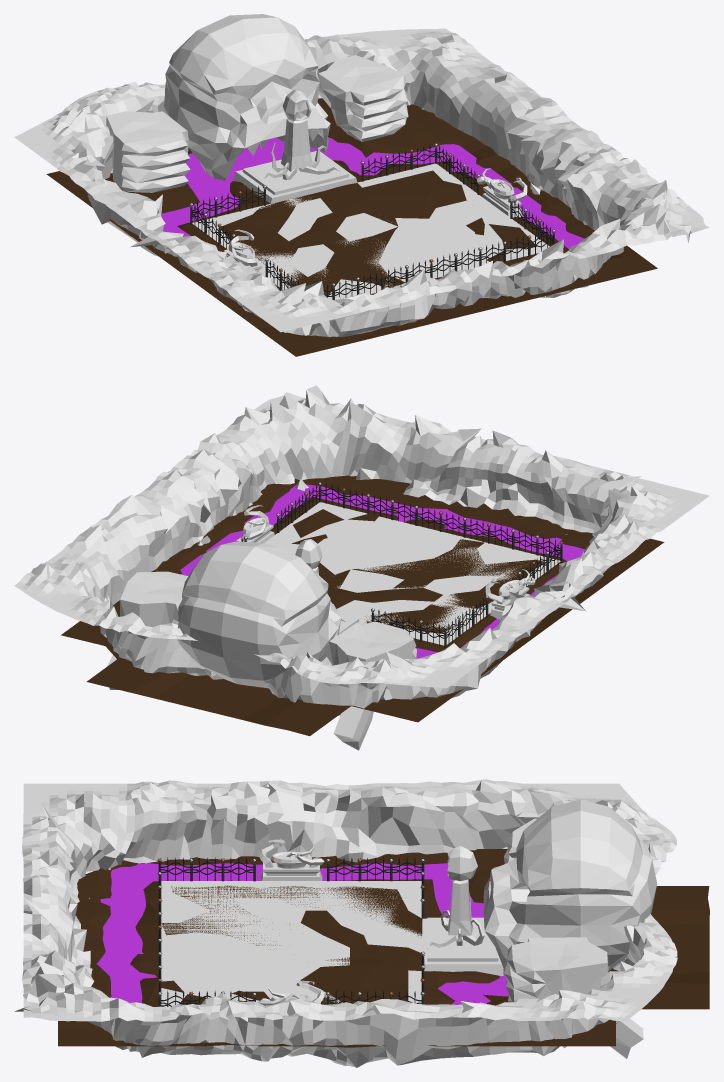
The model's file is Sacrifice_Stage_Final.fbx.
The picture shows the model from 3 angles, top to bottom: view 1: azimuth 30°, elevation 25°; view 2: azimuth 150°, elevation 25°; view 3: azimuth 270°, elevation 25°; orthographic projection. The views are drawn at different scales.
Visible parts, largest first — view 1: Walls, Ground, Skull, Arena_Base, Fists, Slime, Fence_TopBottom, Plinth, SldqhThss, Brazier; view 2: Walls, Ground, Skull, Arena_Base, Fists, Slime, Fence_TopBottom, Brazier, SldqhThss; view 3: Walls, Ground, Arena_Base, Skull, Slime, Fists, Fence_TopBottom, Plinth, SldqhThss, Brazier.
Part boxes in pixels (<box>): Walls: <box>14,28,709,337</box>; Ground: <box>46,98,657,356</box>; Skull: <box>163,14,330,180</box>; Arena_Base: <box>192,163,549,299</box>; Fists: <box>106,55,408,192</box>; Slime: <box>161,137,584,298</box>; Fence_TopBottom: <box>189,143,555,299</box>; Plinth: <box>233,151,357,203</box>; SldqhThss: <box>264,90,340,179</box>; Brazier: <box>224,168,527,273</box>; Walls: <box>14,385,709,715</box>; Ground: <box>61,475,664,736</box>; Skull: <box>177,541,341,688</box>; Arena_Base: <box>265,502,560,645</box>; Fists: <box>107,571,416,750</box>; Slime: <box>180,484,584,658</box>; Fence_TopBottom: <box>238,482,563,647</box>; Brazier: <box>236,505,535,619</box>; SldqhThss: <box>295,539,346,621</box>; Walls: <box>14,779,677,1067</box>; Ground: <box>58,849,709,1047</box>; Arena_Base: <box>161,881,422,1006</box>; Skull: <box>483,799,657,970</box>; Slime: <box>96,863,508,1004</box>; Fists: <box>504,818,643,1058</box>; Fence_TopBottom: <box>157,857,425,1006</box>; Plinth: <box>422,917,503,975</box>; SldqhThss: <box>427,846,484,948</box>; Brazier: <box>258,839,324,1005</box>.
Size of the model in its own units: 221 by 265 by 75.42.
